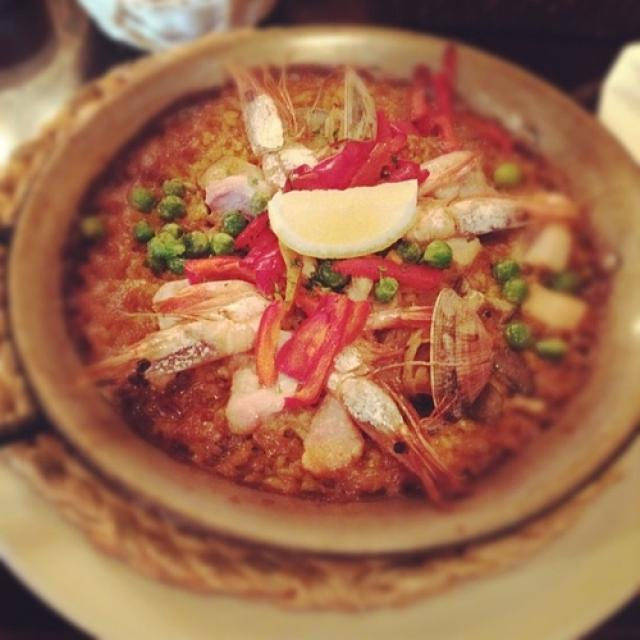炸货点心: (0, 61, 640, 640)
